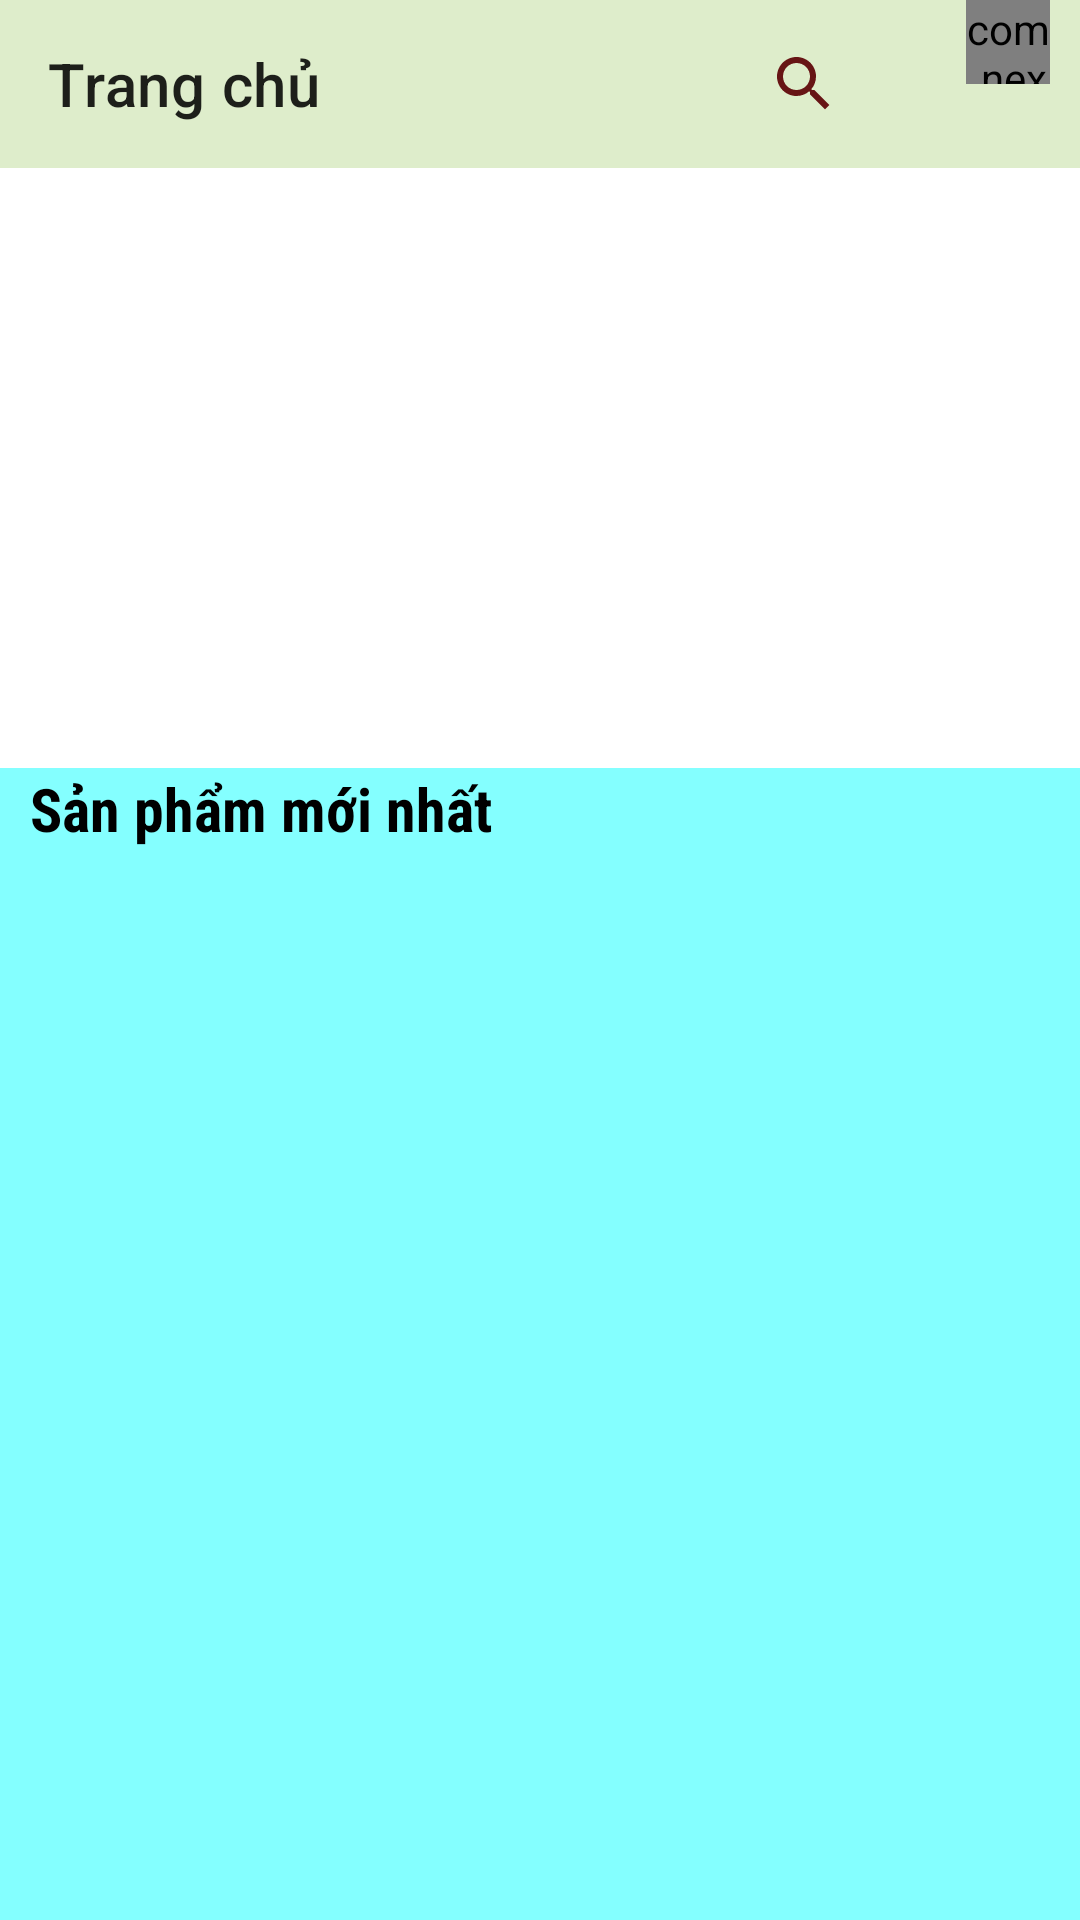

Icons on this 1080w x 1920h Android screen, each with its box as (x1, y1, x2, y2):
search: (777, 57, 829, 109)
